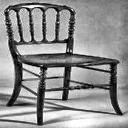chair_success: (1, 2, 127, 125)
